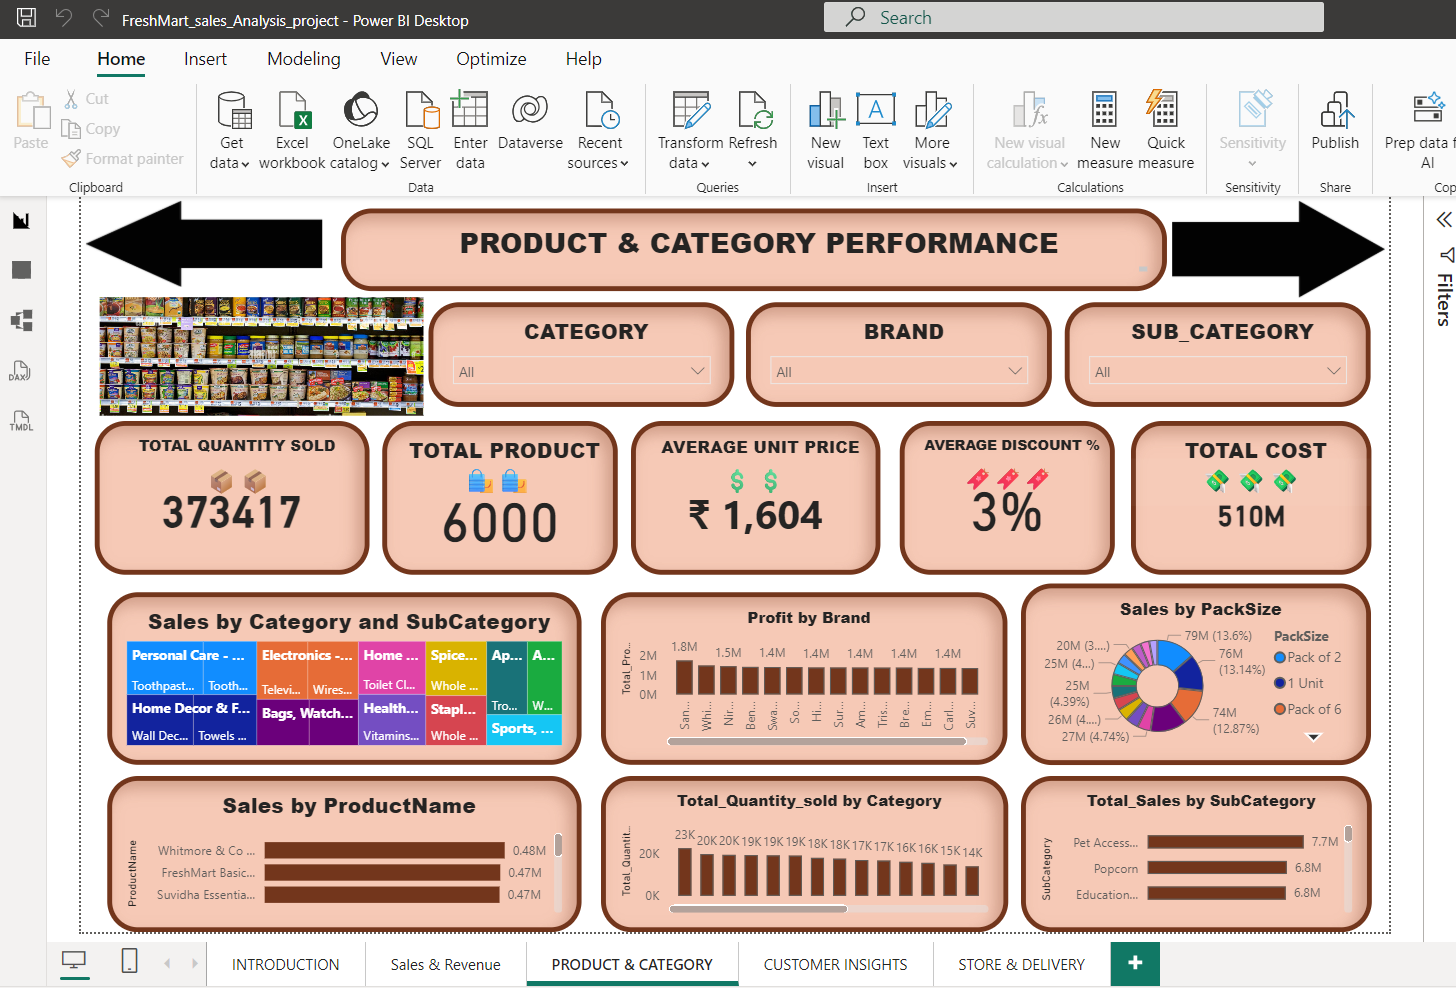

Layout of this report page (visuals, bound fields, positions):
{"tool":"powerbi","page":{"name":"PRODUCT & CATEGORY","canvas":[1280,720],"ordinal":2},"visuals":[{"type":"textbox","box":[0,0,1280,64],"z":0},{"type":"image","box":[16,6,92,54],"z":1000},{"type":"textbox","box":[119.4,3.6,487.4,56.7],"z":2000},{"type":"actionButton","box":[640,14,120,36],"z":3000},{"type":"actionButton","box":[766,14,120,36],"z":4000},{"type":"actionButton","box":[892,14,120,36],"z":5000},{"type":"actionButton","box":[1018,14,120,36],"z":6000},{"type":"actionButton","box":[1144,14,120,36],"z":7000},{"type":"slicer","title":"CATEGORY","fields":{"Values":["FreshMart_Sales_Analysis.Category"]},"box":[16,76,406,52],"z":8000},{"type":"slicer","title":"BRAND","fields":{"Values":["FreshMart_Sales_Analysis.Brand"]},"box":[437,76,406,52],"z":9000},{"type":"slicer","title":"SUB CATEGORY","fields":{"Values":["FreshMart_Sales_Analysis.SubCategory"]},"box":[858,76,406,52],"z":10000},{"type":"cardVisual","title":"📦 TOTAL QUANTITY SOLD","fields":{"Data":["FreshMart_Sales_Analysis.Total_Quantity_sold"]},"box":[16,138,240,92],"z":11000},{"type":"cardVisual","title":"🛍️ TOTAL PRODUCT","fields":{"Data":["FreshMart_Sales_Analysis.Total_Products"]},"box":[268,138,240,92],"z":12000},{"type":"cardVisual","title":"💲 AVERAGE UNIT PRICE","fields":{"Data":["FreshMart_Sales_Analysis.Average_Unit_Price"]},"box":[520,138,240,92],"z":13000},{"type":"cardVisual","title":"🔖 AVERAGE DISCOUNT %","fields":{"Data":["FreshMart_Sales_Analysis.Average_discount%"]},"box":[772,138,240,92],"z":14000},{"type":"cardVisual","title":"💸 TOTAL COST","fields":{"Data":["FreshMart_Sales_Analysis.Total_Cost"]},"box":[1024,138,240,92],"z":15000},{"type":"treemap","title":"Sales by Category and SubCategory","fields":{"Group":["FreshMart_Sales_Analysis.Category"],"Details":["FreshMart_Sales_Analysis.SubCategory"],"Values":["FreshMart_Sales_Analysis.Total_Sales"]},"box":[16,242,408,228],"z":16000},{"type":"clusteredColumnChart","title":"Profit by Brand","fields":{"Y":["FreshMart_Sales_Analysis.Total_Profit"],"Category":["FreshMart_Sales_Analysis.Brand"]},"box":[436,242,408,228],"z":17000},{"type":"donutChart","title":"Sales by PackSize","fields":{"Category":["FreshMart_Sales_Analysis.PackSize"],"Y":["FreshMart_Sales_Analysis.Total_Sales"]},"box":[856,242,408,228],"z":18000},{"type":"clusteredBarChart","title":"Sales by ProductName","fields":{"Y":["FreshMart_Sales_Analysis.Total_Sales"],"Category":["FreshMart_Sales_Analysis.ProductName"]},"box":[16,482,408,228],"z":19000},{"type":"clusteredColumnChart","title":"Quantity Sold by Category","fields":{"Category":["FreshMart_Sales_Analysis.Category"],"Y":["FreshMart_Sales_Analysis.Total_Quantity_sold"]},"box":[436,482,408,228],"z":20000},{"type":"clusteredBarChart","title":"Sales by Sub-Category","fields":{"Y":["FreshMart_Sales_Analysis.Total_Sales"],"Category":["FreshMart_Sales_Analysis.SubCategory"]},"box":[856,482,408,228],"z":21000}]}

Visuals, with their boxes on the page's 1280x720 design canvas (x1, y1, x2, y2). These are canvas units, not pixel positions in the 1456x988 screenshot, which may show the page scaled, cropped or inside an application window:
textbox: bbox=(0, 0, 1280, 64)
image: bbox=(16, 6, 108, 60)
textbox: bbox=(119, 4, 607, 60)
actionButton: bbox=(640, 14, 760, 50)
actionButton: bbox=(766, 14, 886, 50)
actionButton: bbox=(892, 14, 1012, 50)
actionButton: bbox=(1018, 14, 1138, 50)
actionButton: bbox=(1144, 14, 1264, 50)
"CATEGORY" slicer: bbox=(16, 76, 422, 128)
"BRAND" slicer: bbox=(437, 76, 843, 128)
"SUB CATEGORY" slicer: bbox=(858, 76, 1264, 128)
"📦 TOTAL QUANTITY SOLD" cardVisual: bbox=(16, 138, 256, 230)
"🛍️ TOTAL PRODUCT" cardVisual: bbox=(268, 138, 508, 230)
"💲 AVERAGE UNIT PRICE" cardVisual: bbox=(520, 138, 760, 230)
"🔖 AVERAGE DISCOUNT %" cardVisual: bbox=(772, 138, 1012, 230)
"💸 TOTAL COST" cardVisual: bbox=(1024, 138, 1264, 230)
"Sales by Category and SubCategory" treemap: bbox=(16, 242, 424, 470)
"Profit by Brand" clusteredColumnChart: bbox=(436, 242, 844, 470)
"Sales by PackSize" donutChart: bbox=(856, 242, 1264, 470)
"Sales by ProductName" clusteredBarChart: bbox=(16, 482, 424, 710)
"Quantity Sold by Category" clusteredColumnChart: bbox=(436, 482, 844, 710)
"Sales by Sub-Category" clusteredBarChart: bbox=(856, 482, 1264, 710)
